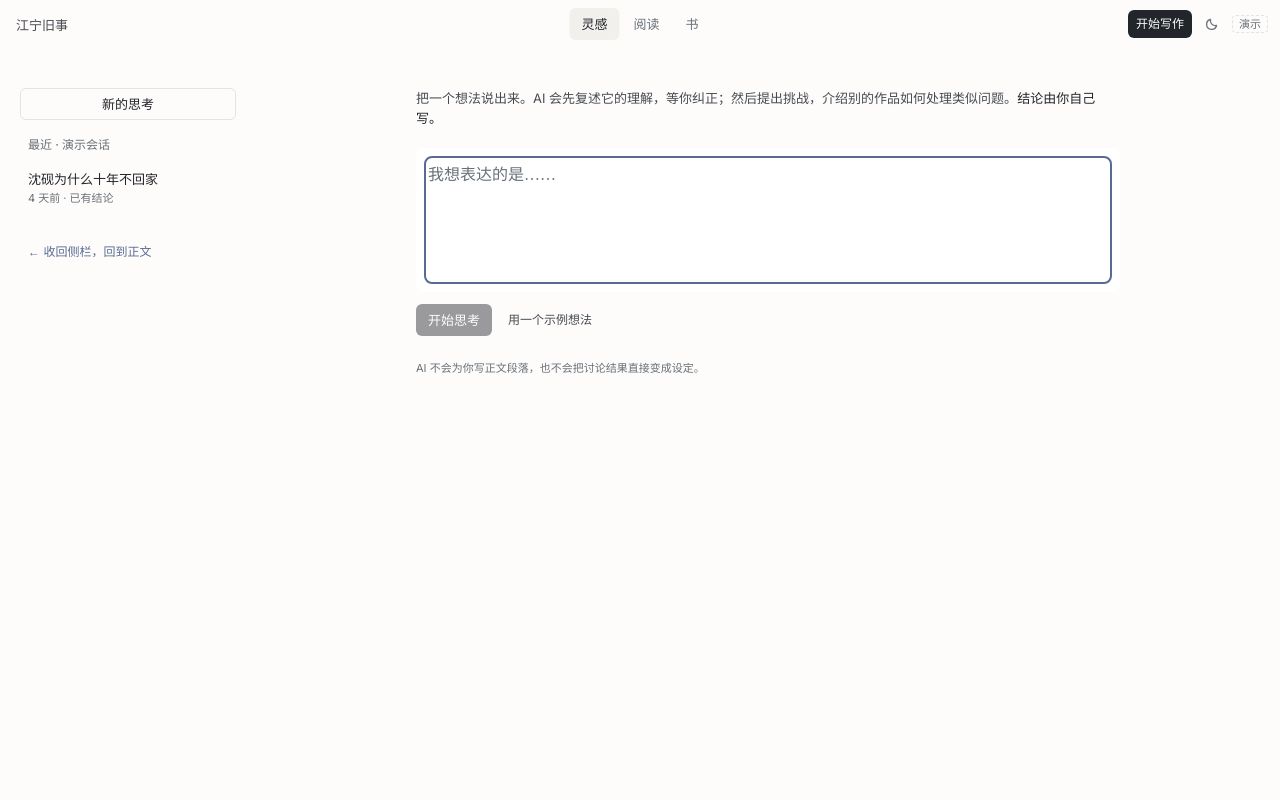
Test case: Writer Agent studio › renders the VNext manuscript and reveals chapters only on request
Expected: the tab "灵感" is shown, [570,8,620,40]
Click the tab "阅读": (646, 24) [622,8,672,40]
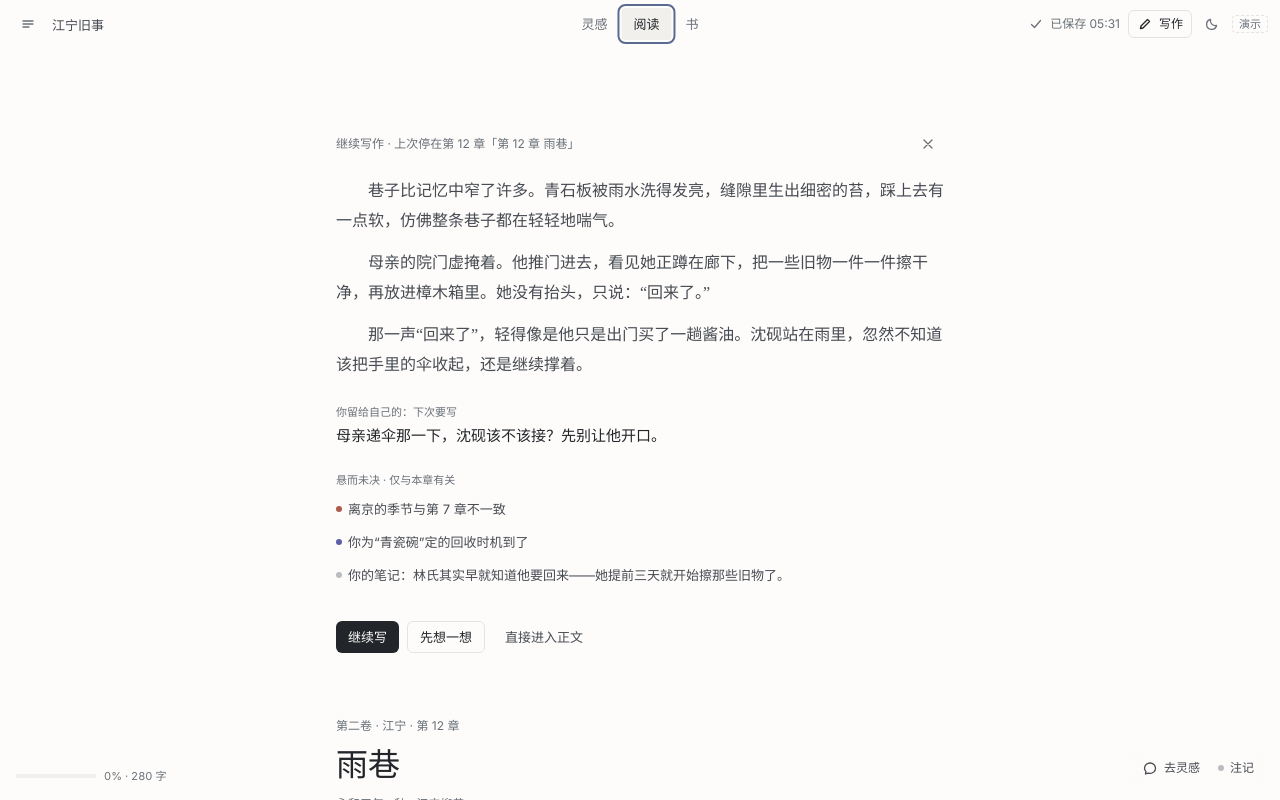
Click the button named "目录与本章相关": (28, 24) [12,8,44,40]
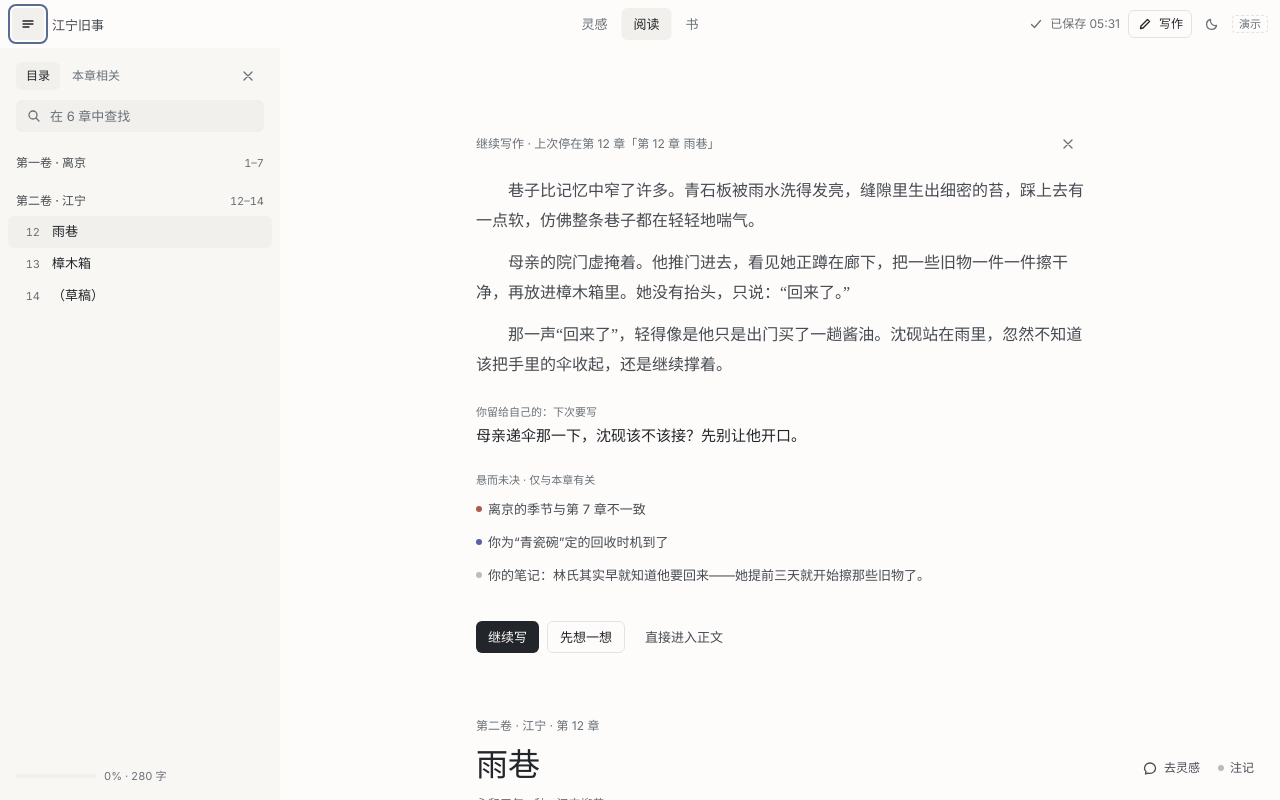
Expected: the navigation bar named "书的地图" is shown, [0,48,280,799]
